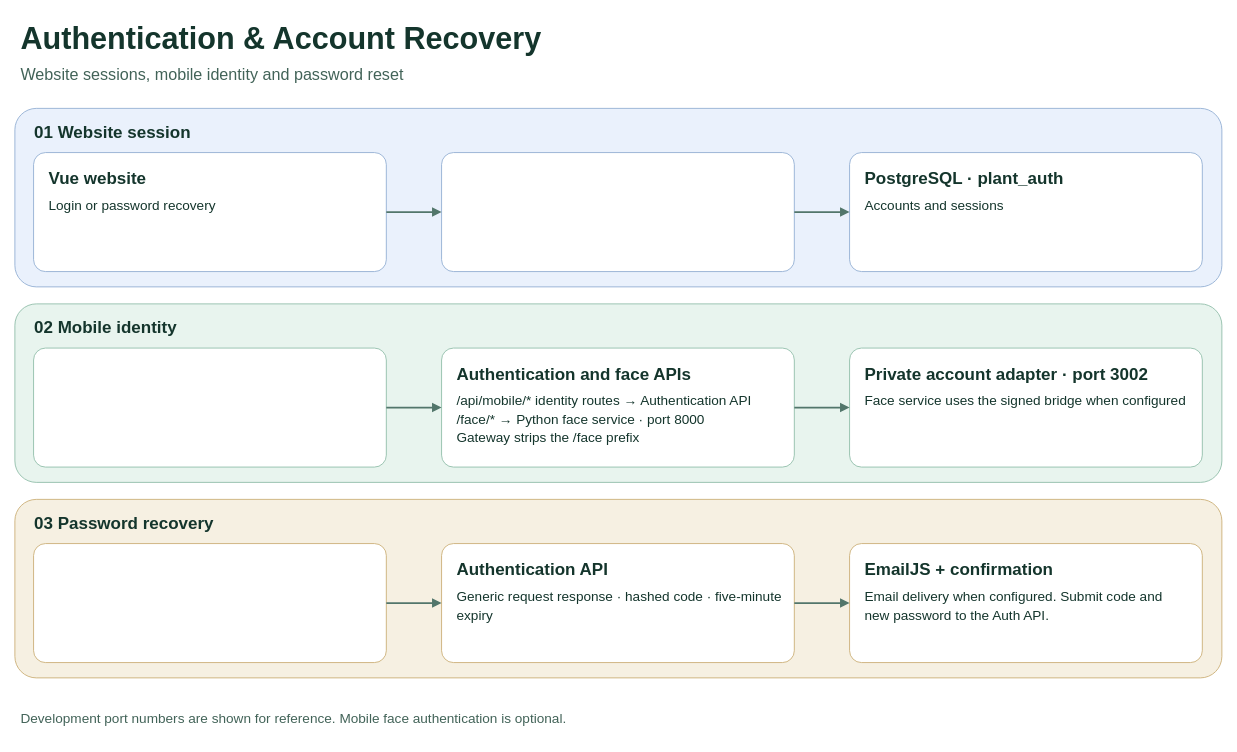
The diagram is 1237 pixels wide and 752 high, and some of its shapes have lost their labels. The box of each missing label's shape, as (x1, y1, x2, y2) in pixels:
Authentication API · port 3001 /api/auth/* · cookie session: (441, 152, 794, 272)
Expo app Configured HTTPS endpoints or development gateway: (33, 347, 386, 467)
Forgot Password modal Request a code using the account email: (33, 543, 386, 663)
